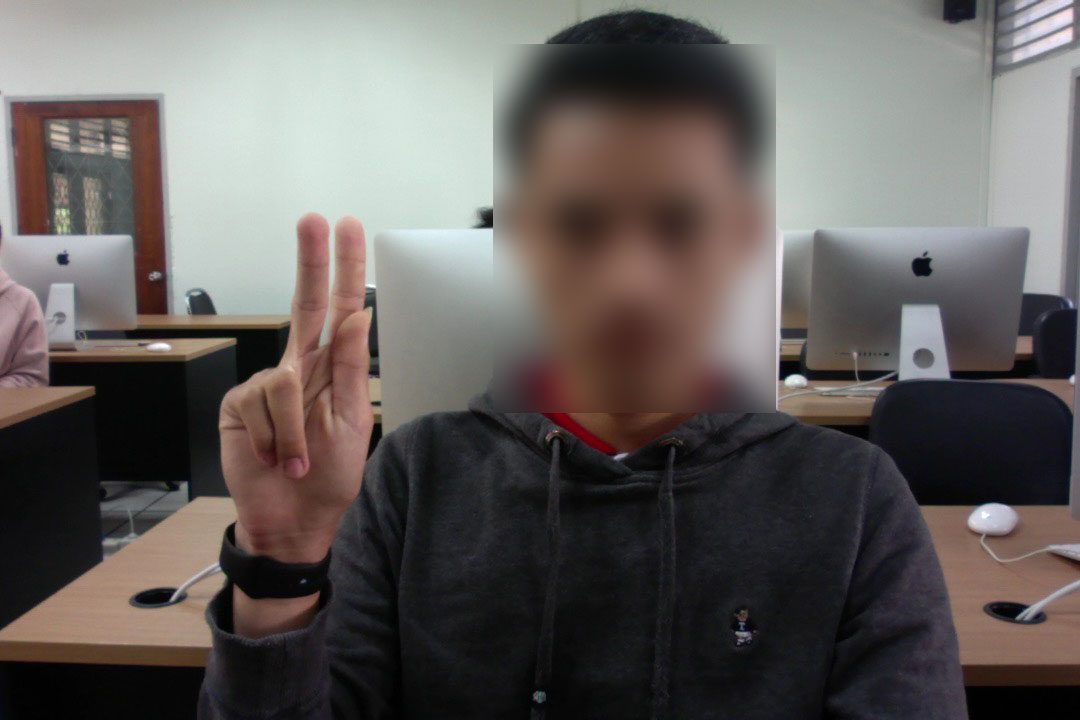ko: (216, 209, 392, 564)
